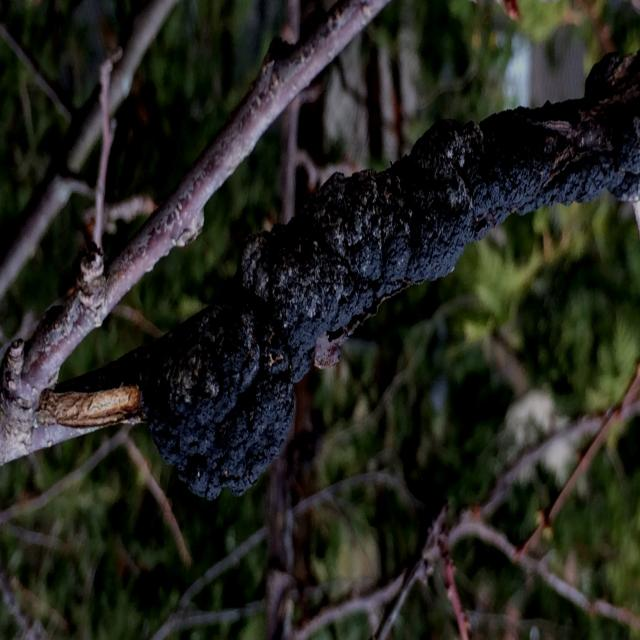Black_knot: (37, 45, 638, 503)
